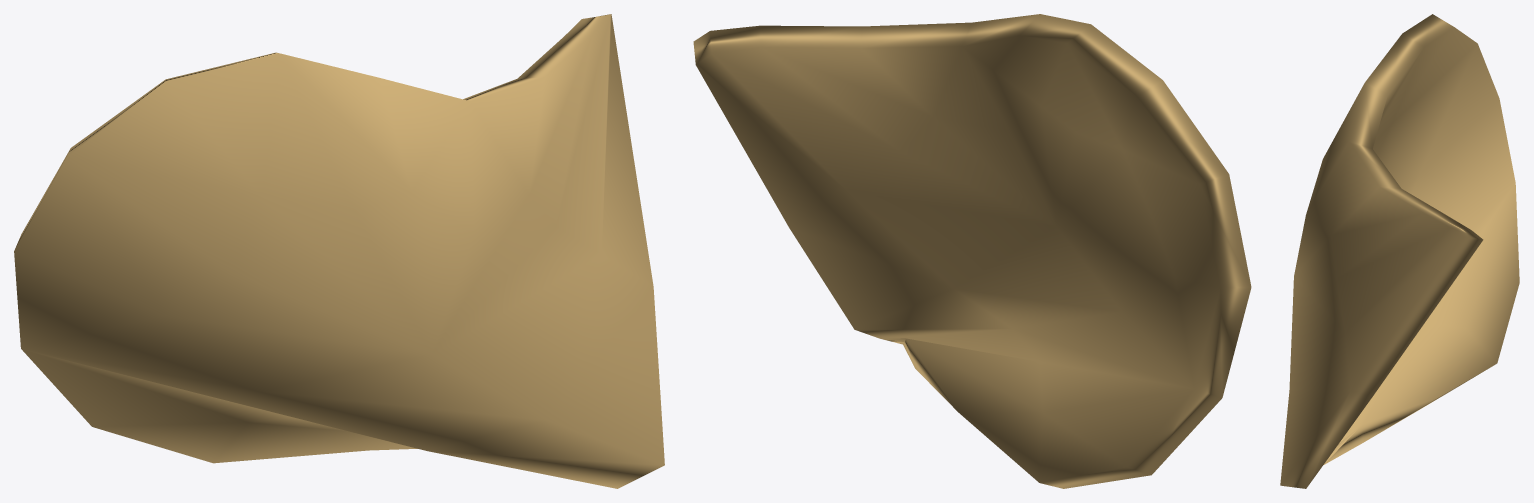
The picture shows the model from 3 angles, left to right: view 1: azimuth 30°, elevation 25°; view 2: azimuth 150°, elevation 25°; view 3: azimuth 270°, elevation 25°; orthographic projection. The views are drawn at different scales.
Visible parts, largest first — view 1: 右侧内侧半月板前半月板胫骨韧带; view 2: 右侧内侧半月板前半月板胫骨韧带; view 3: 右侧内侧半月板前半月板胫骨韧带.
Part boxes in pixels (x1,y1,x2,y2): 右侧内侧半月板前半月板胫骨韧带: (14, 14, 664, 488); 右侧内侧半月板前半月板胫骨韧带: (693, 14, 1251, 488); 右侧内侧半月板前半月板胫骨韧带: (1280, 14, 1519, 488).
Size of the model in its own units: 0.0148 by 0.0108 by 0.00671.
